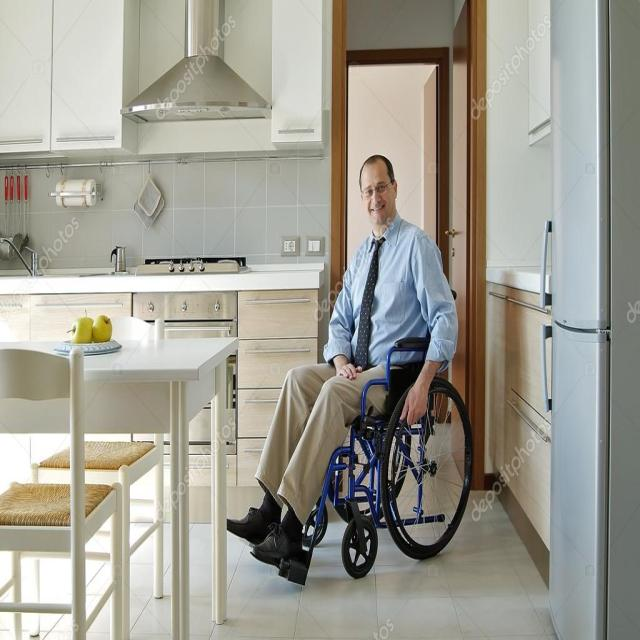wheelchairs: (226, 285, 479, 594)
